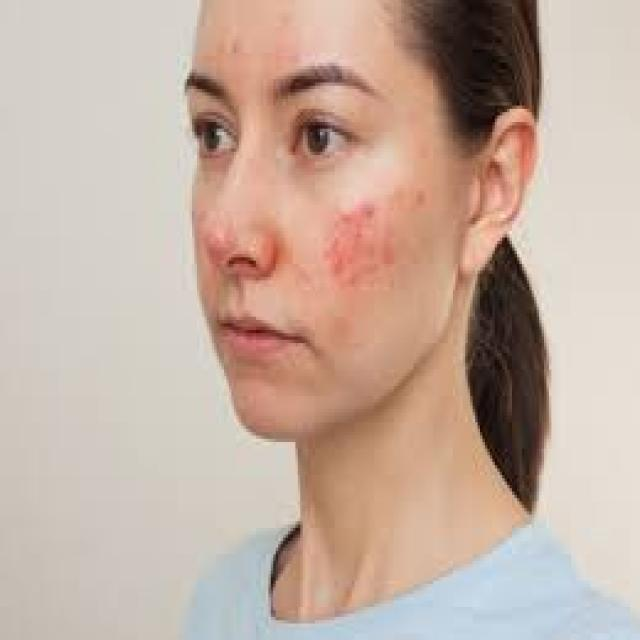Eczema: (319, 206, 391, 280)
